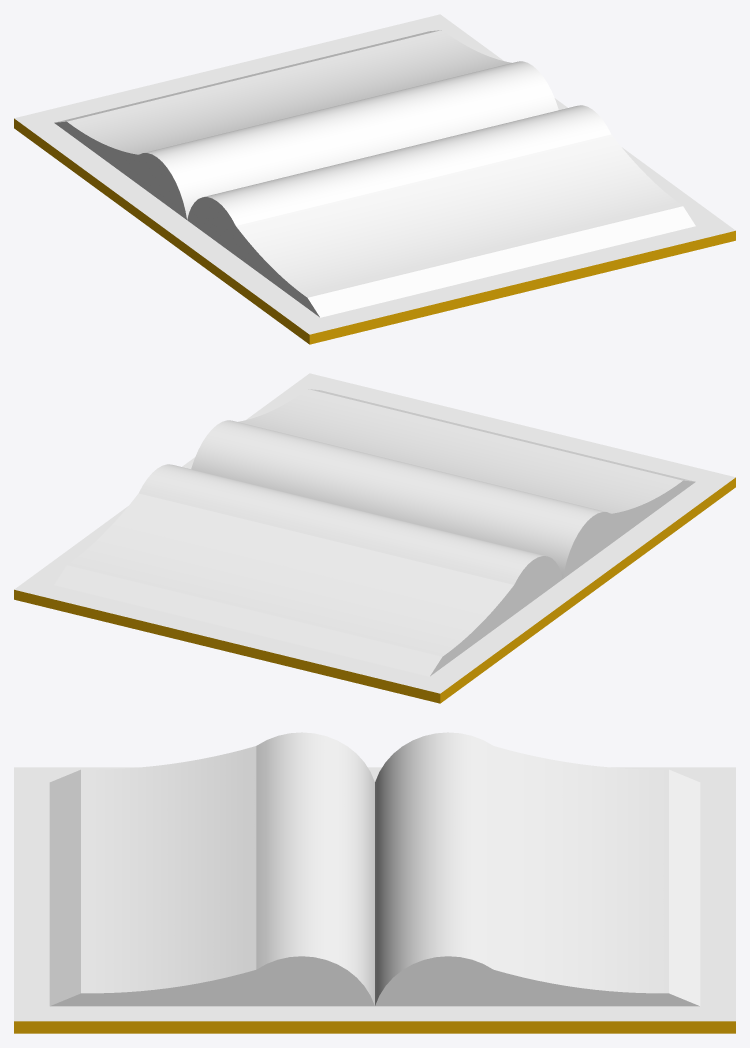
The model's file is BookOpen2.fbx.
3 views of the same model, one above another, from view 1: azimuth 30°, elevation 25°; view 2: azimuth 150°, elevation 25°; view 3: azimuth 270°, elevation 25° (orthographic). The views are drawn at different scales.
Visible parts, largest first — view 1: Layer0_001; view 2: Layer0_001; view 3: Layer0_001.
Boxes of the visible parts, <box> form: Layer0_001: <box>14,14,735,344</box>; Layer0_001: <box>14,373,735,703</box>; Layer0_001: <box>14,732,735,1033</box>.
Bounding box in the file's own units: 358 × 42.92 × 430.
